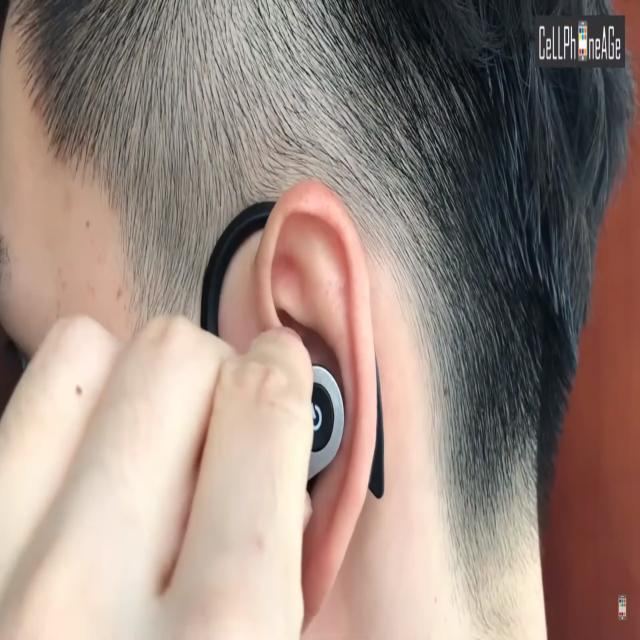airpods: (201, 198, 385, 500)
